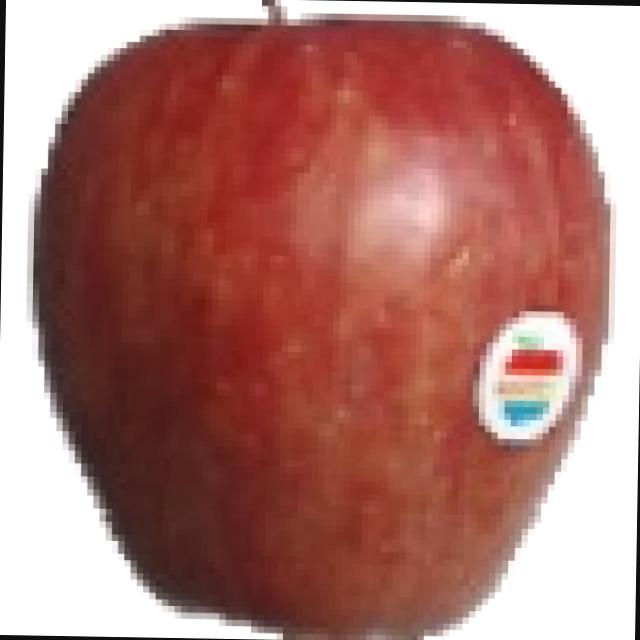apple: (27, 12, 620, 639)
